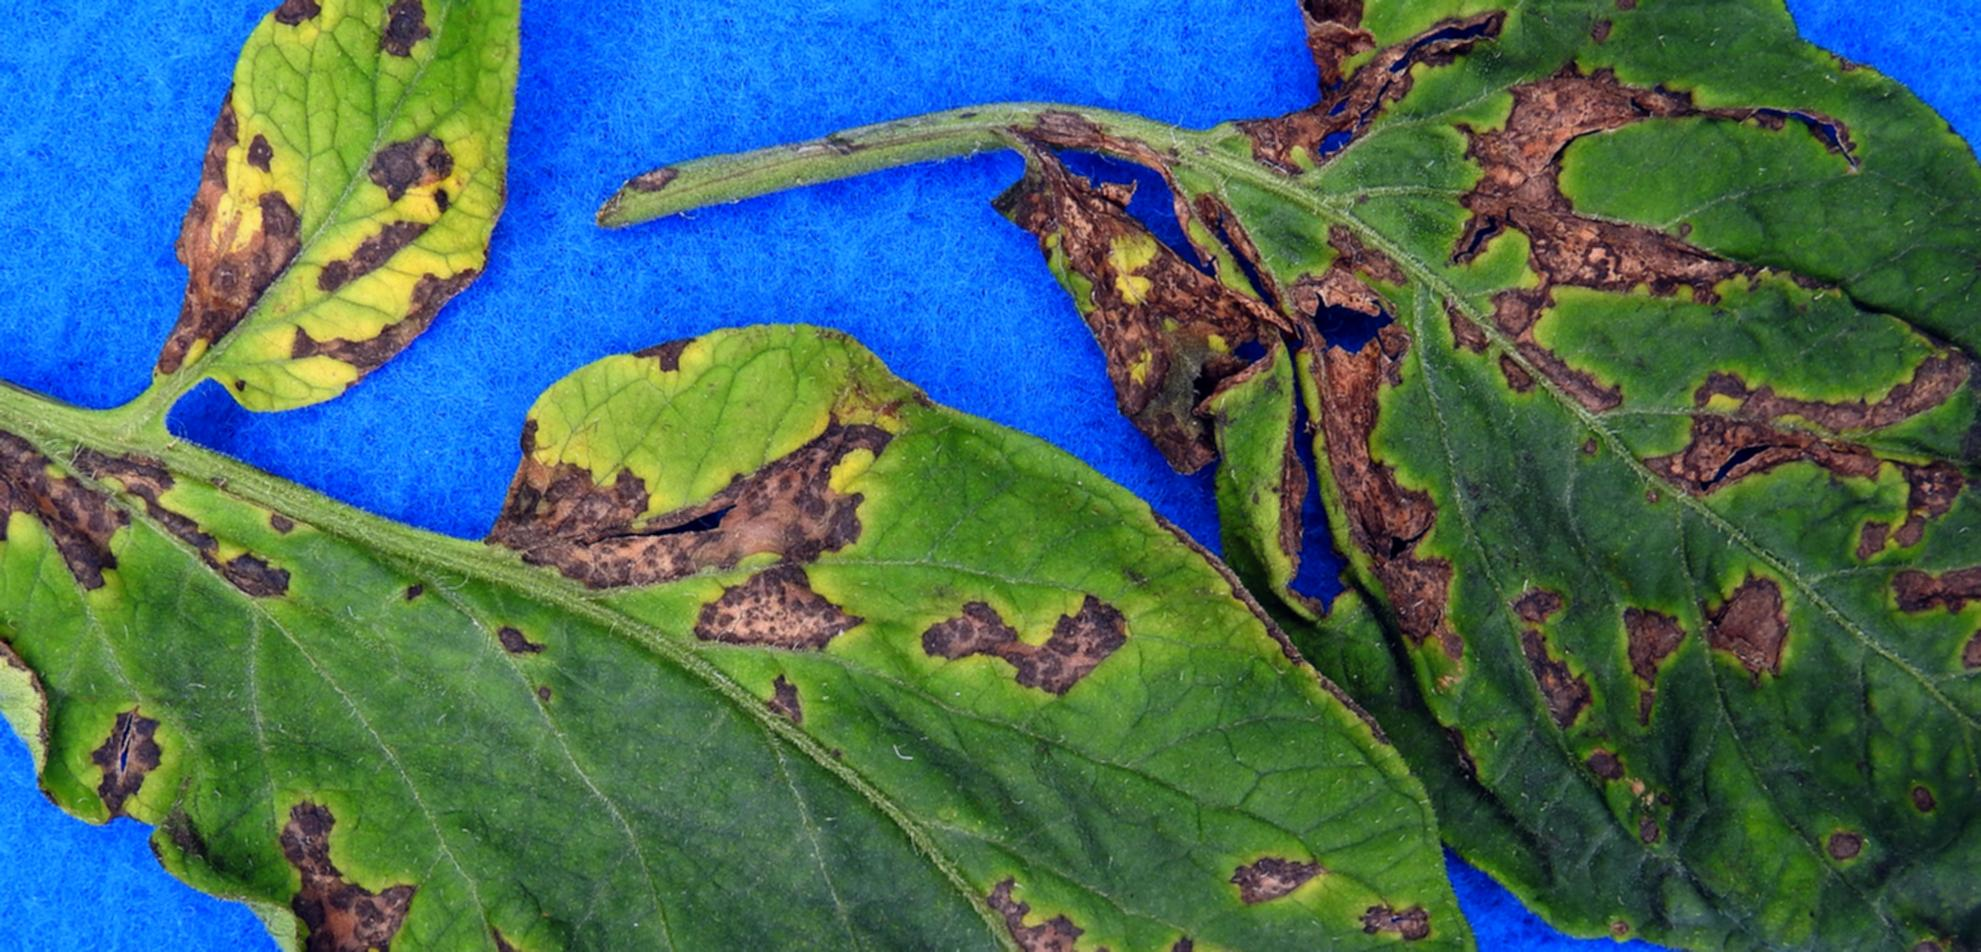Tomato leaf bacterial spot: (0, 258, 1695, 952), (1063, 0, 1981, 952), (104, 0, 566, 415)
